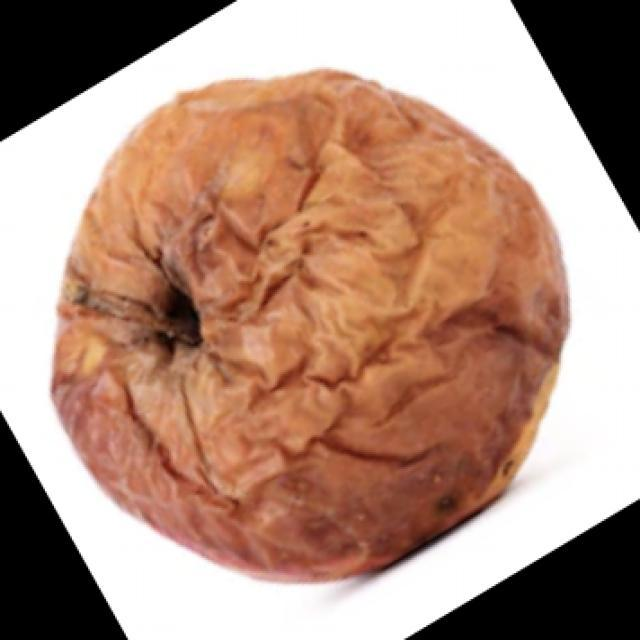Rotten: (82, 73, 568, 565)
